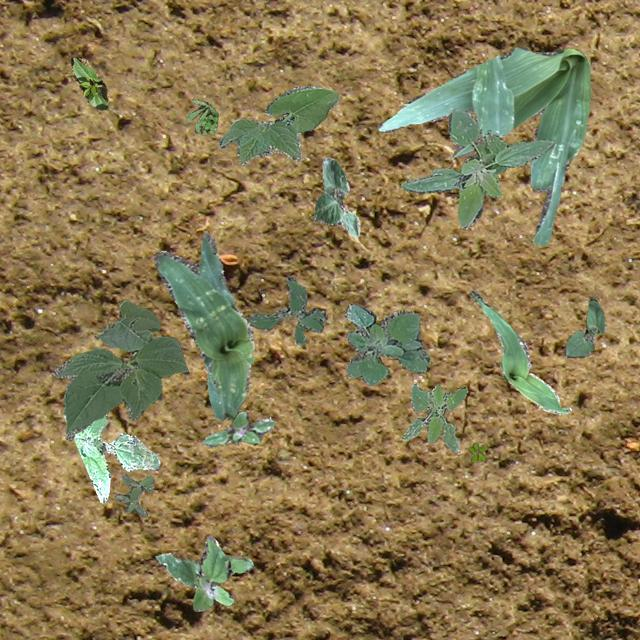crop: (378, 45, 590, 244), (152, 230, 254, 420), (51, 298, 188, 439), (468, 291, 570, 414), (218, 84, 338, 164), (312, 156, 358, 236), (564, 298, 606, 357), (70, 56, 108, 110)
weed: (400, 108, 552, 228), (72, 412, 160, 502), (154, 534, 252, 610), (344, 302, 428, 384), (246, 276, 326, 344), (402, 382, 466, 452), (202, 410, 276, 446), (114, 472, 152, 516), (186, 98, 218, 134), (468, 442, 487, 461)
